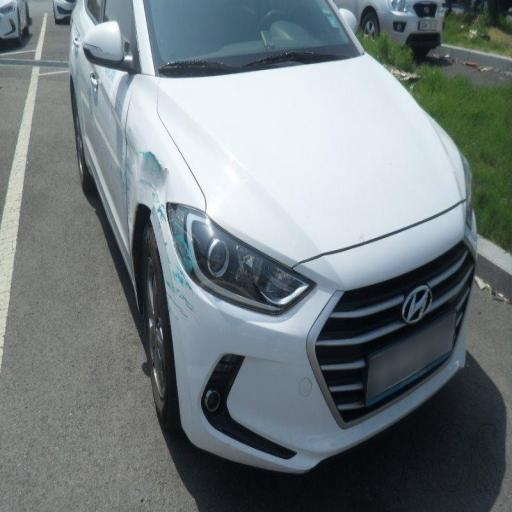scratch: (121, 143, 217, 338)
